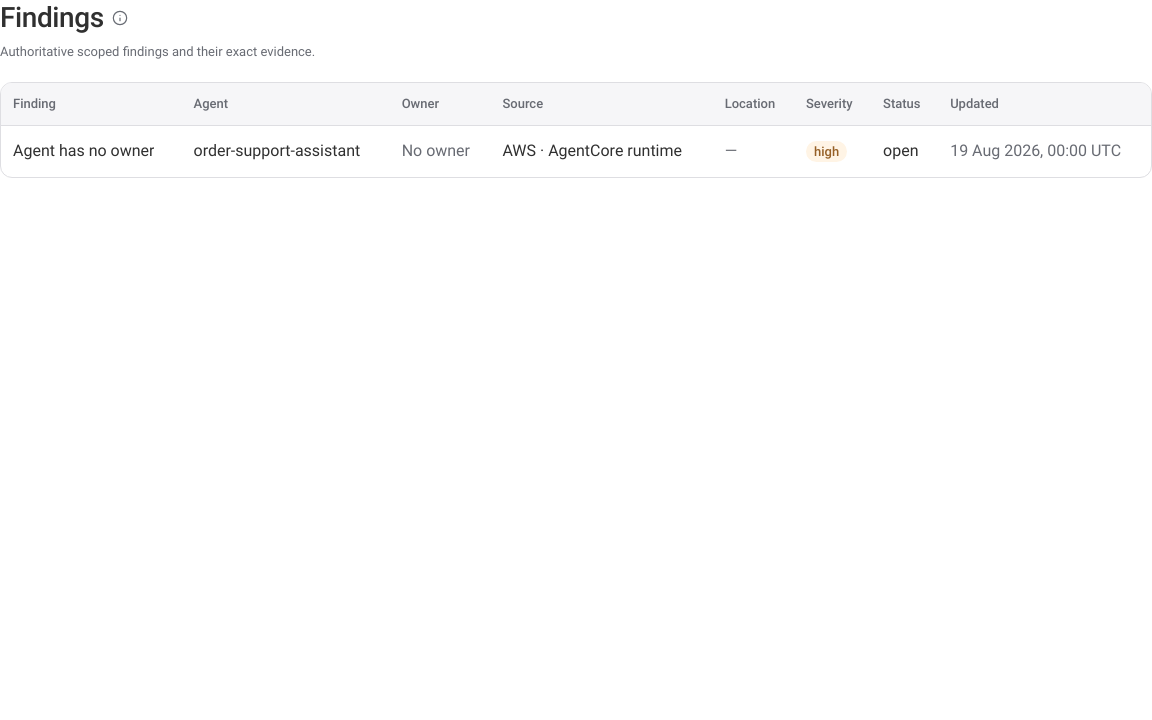
Scenario: findings show where the affected agent lives and who created it › says what the provider does not report and adds no rows for an agent without attribution
The image size is (1152, 720).
Later steps or results of the test are not shown.
Click the button with aria-label "Open Agent has no owner". click: (84, 151)
box: [13,141,154,161]
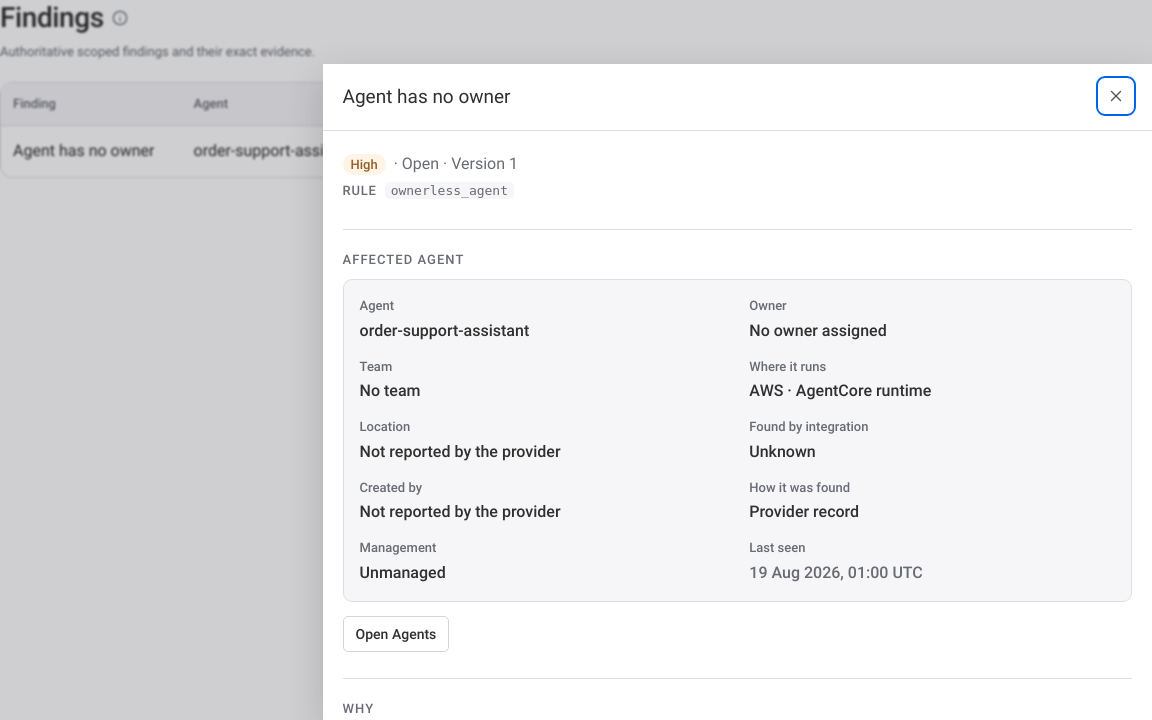
Check: the text "Not reported by the provider" below "Created by" is shown, box [360,502,561,522]
